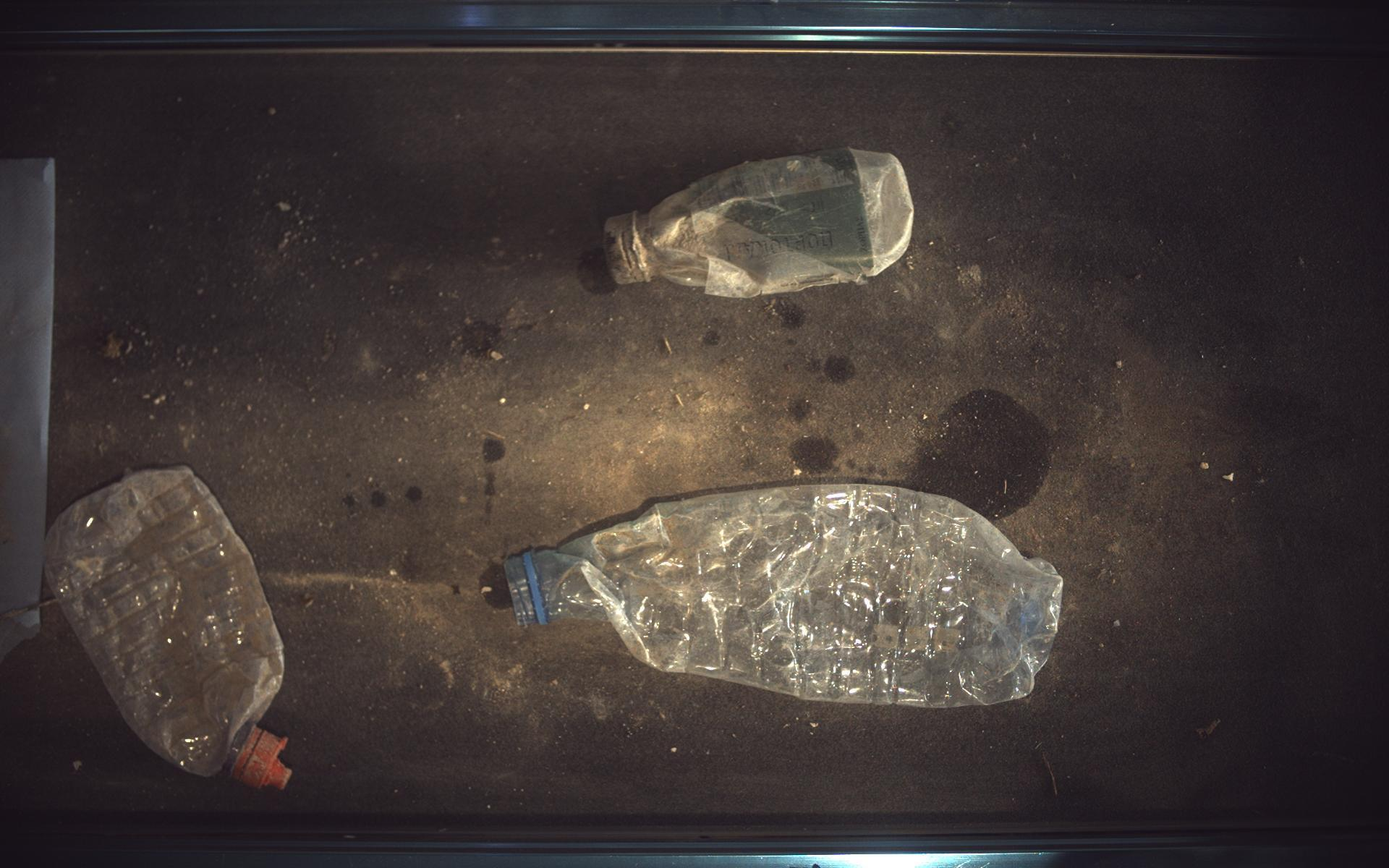general_w: (505, 484, 1065, 709), (605, 148, 915, 297)
